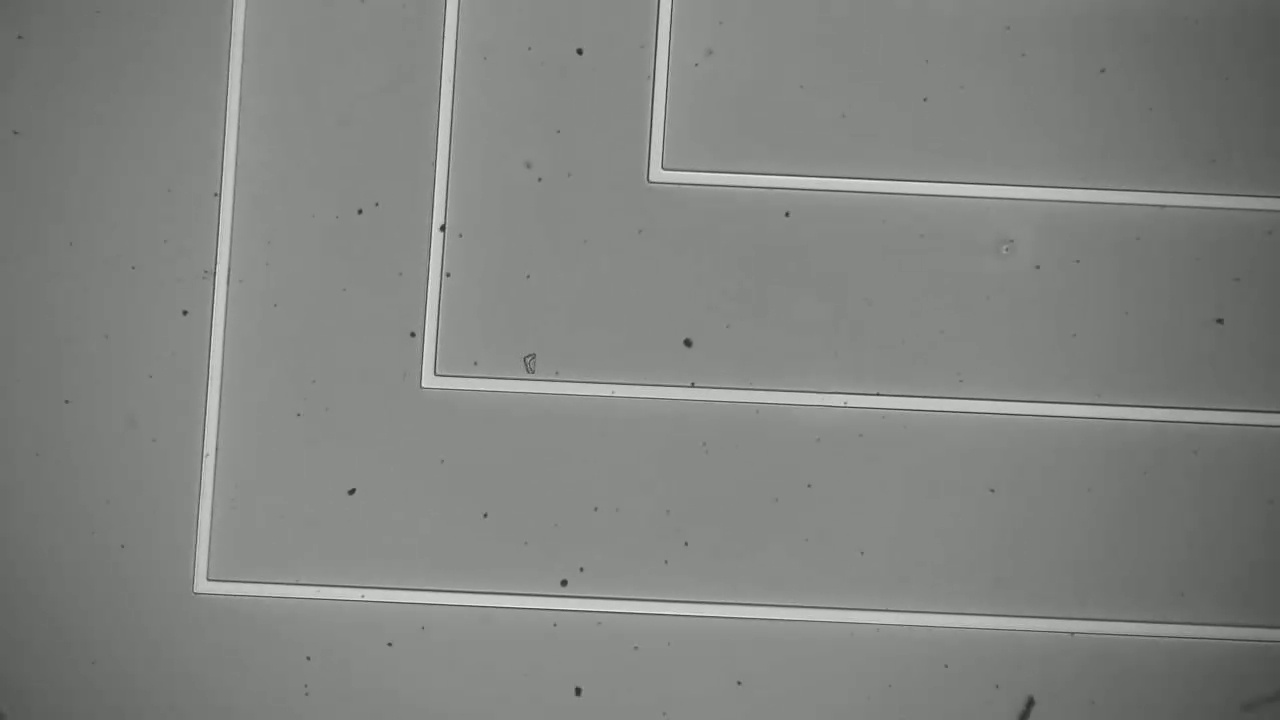stains_enbedded: (433, 217, 450, 241)
